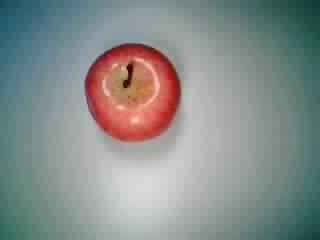apple: (79, 42, 184, 146)
